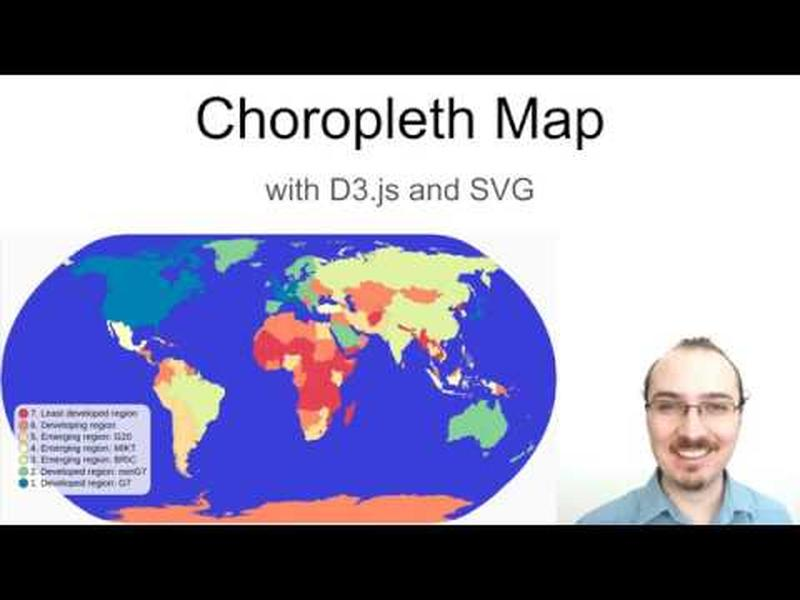legend: (14, 403, 152, 495)
